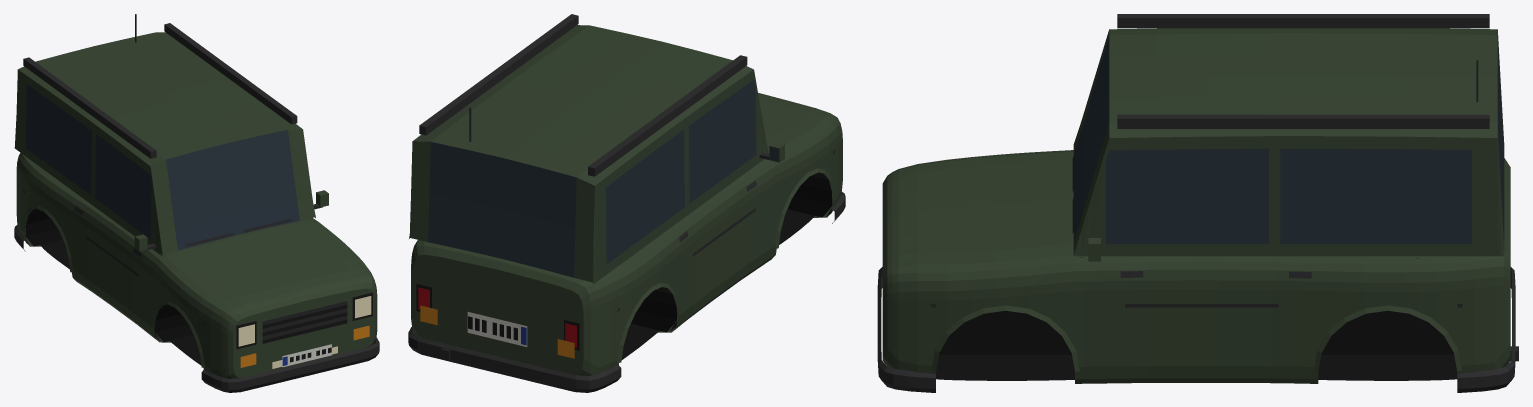
Rendered from land-rover-defender.glb.
The picture shows the model from 3 angles, left to right: view 1: azimuth 30°, elevation 25°; view 2: azimuth 150°, elevation 25°; view 3: azimuth 270°, elevation 25°; orthographic projection. The views are drawn at different scales.
Parts seen in each view (by area): view 1: LOD0, door_FR, door_RR; view 2: LOD0, door_FR, door_RR; view 3: LOD0, door_FL, door_RL.
Boxes of the visible parts, left/top/right/bottom form: LOD0: left=14, top=14, right=379, bottom=392; door_FR: left=88, top=125, right=159, bottom=336; door_RR: left=36, top=89, right=91, bottom=287; LOD0: left=408, top=14, right=845, bottom=392; door_FR: left=688, top=70, right=774, bottom=312; door_RR: left=628, top=119, right=693, bottom=326; LOD0: left=877, top=14, right=1518, bottom=392; door_FL: left=1081, top=136, right=1272, bottom=379; door_RL: left=1276, top=136, right=1417, bottom=378.
Size of what is drawn, in the model's own units: 1.98 by 2.04 by 3.98.
